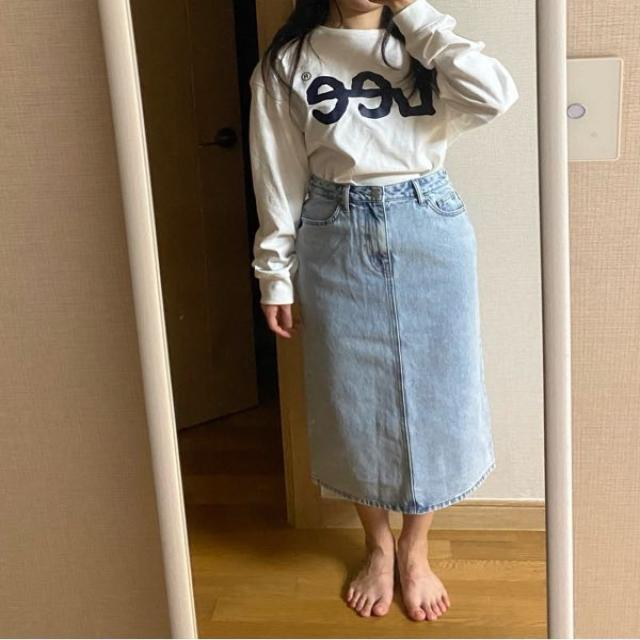mtm: (251, 0, 516, 306)
skirt: (292, 170, 496, 514)
